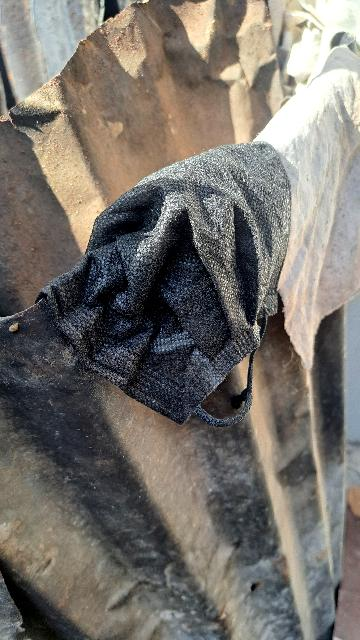mask: (27, 96, 354, 425)
